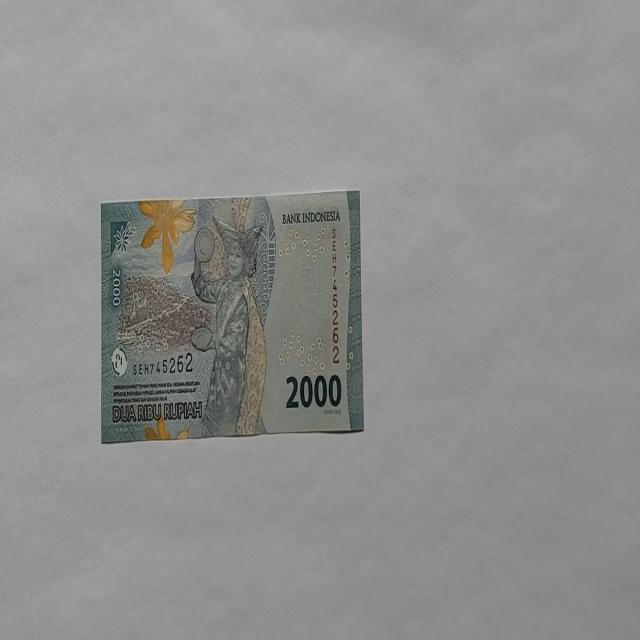dua ribu rupiah: (100, 188, 364, 442), (189, 215, 267, 437)
